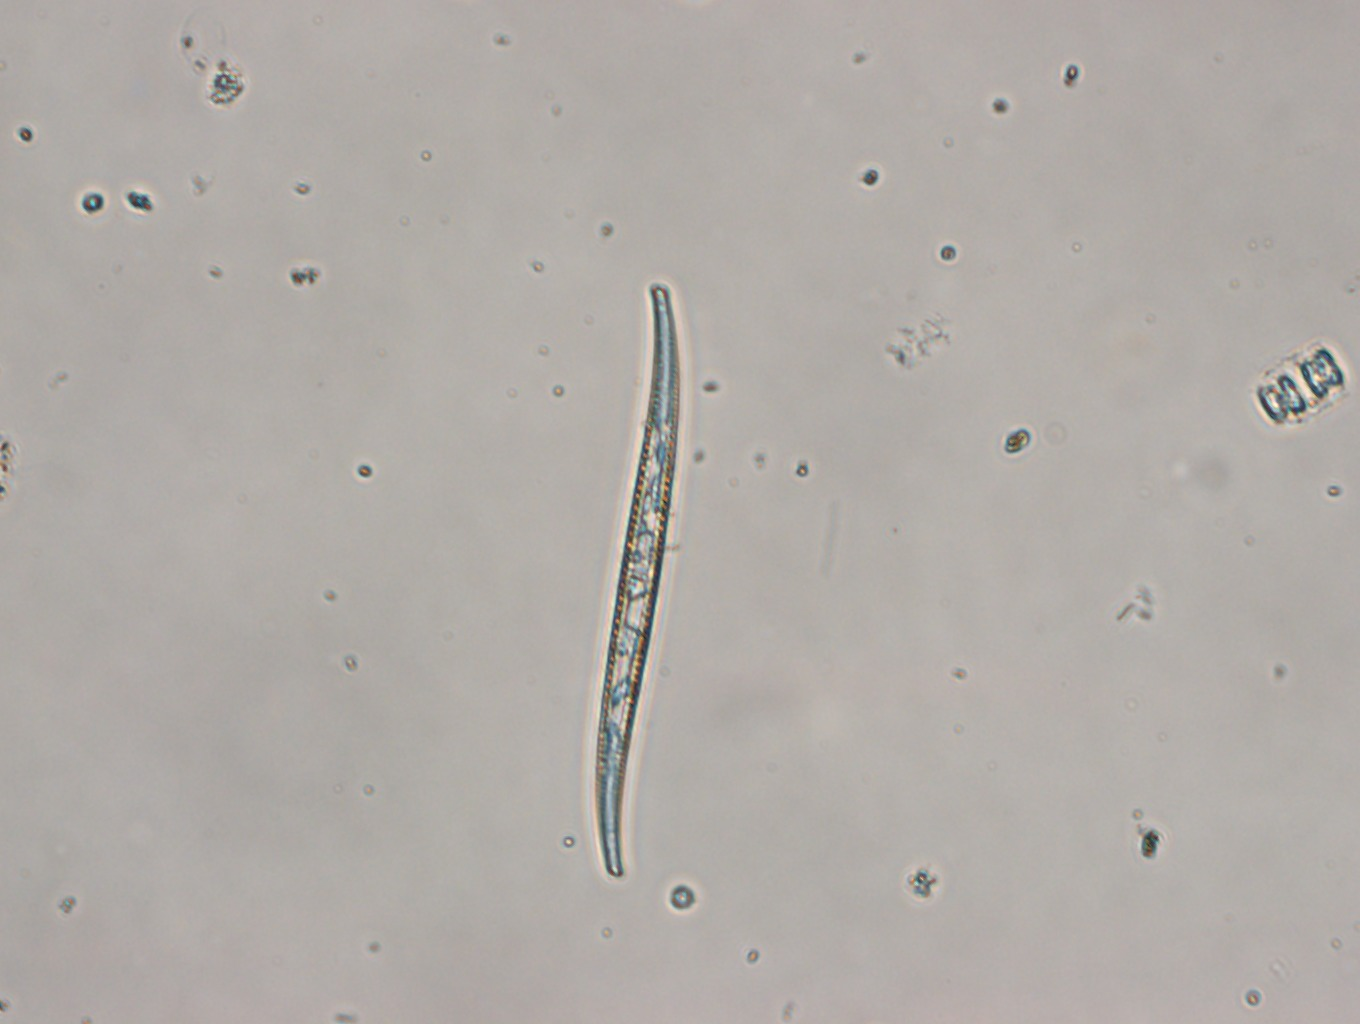pleurosigma pelagicum: (581, 272, 691, 872)
